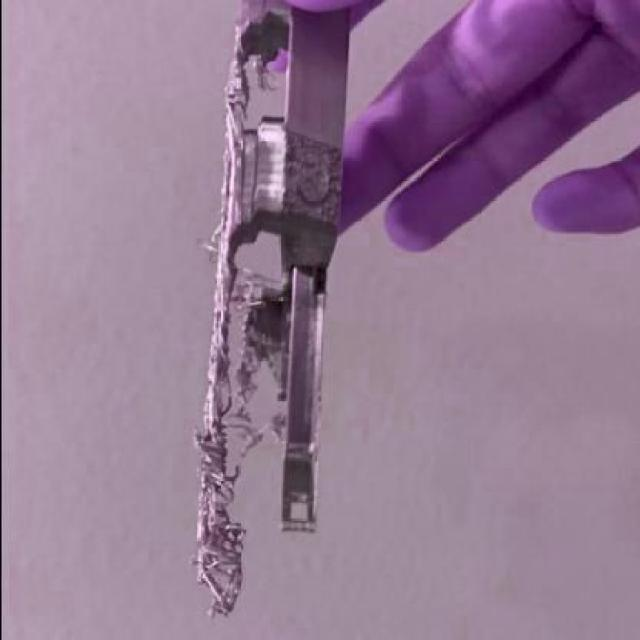spaghetti: (186, 237, 266, 623), (223, 56, 271, 153)
